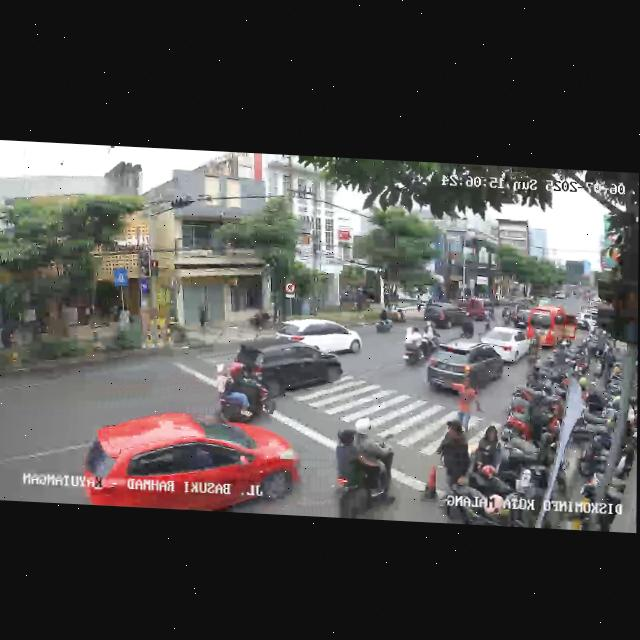car: (83, 408, 300, 516), (233, 335, 344, 405), (427, 339, 504, 398), (276, 315, 361, 362), (528, 304, 578, 350), (479, 326, 532, 366), (422, 304, 471, 331), (465, 297, 494, 321), (513, 307, 537, 329)
motorcycle: (327, 414, 399, 520), (216, 360, 276, 425), (403, 326, 436, 370), (423, 320, 441, 355), (458, 311, 476, 341), (375, 309, 392, 335), (483, 306, 495, 331), (499, 305, 512, 326)
person: (437, 418, 469, 509), (444, 374, 484, 438), (474, 423, 504, 482), (416, 295, 422, 313)
